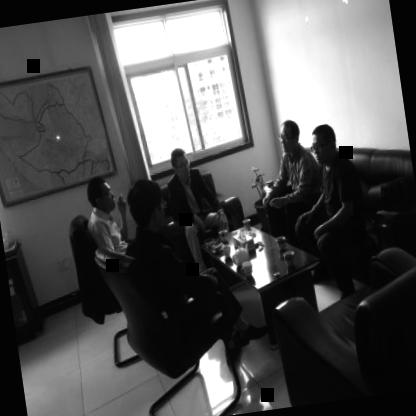head: (124, 176, 171, 240), (84, 172, 119, 216), (308, 120, 340, 164), (274, 115, 302, 155), (169, 144, 193, 180)
